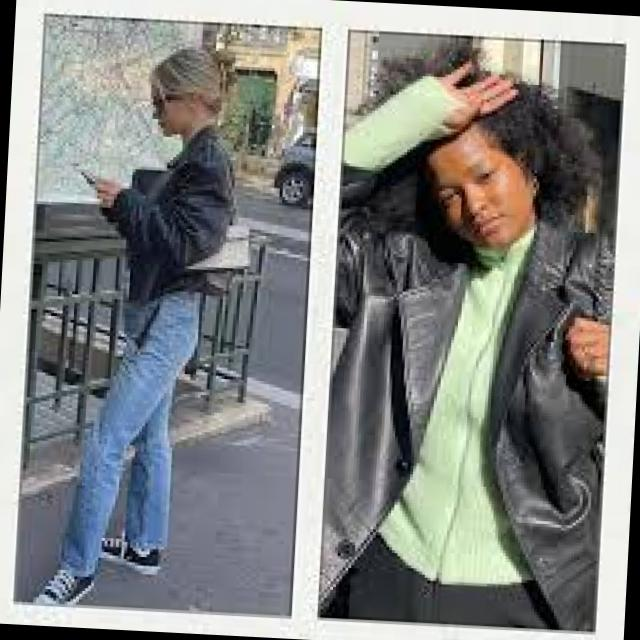Jacket: (305, 222, 640, 640), (83, 122, 248, 336)
